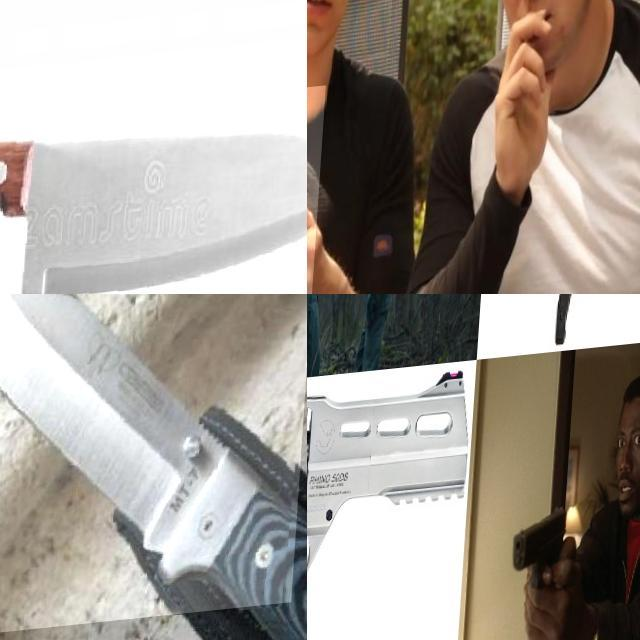-: (0, 294, 307, 640), (0, 40, 307, 294), (307, 89, 345, 294)
gun-knife-thesis - v11 Yolov5 augmented: (307, 366, 478, 640), (483, 294, 640, 434), (510, 509, 586, 640), (307, 294, 356, 403)
